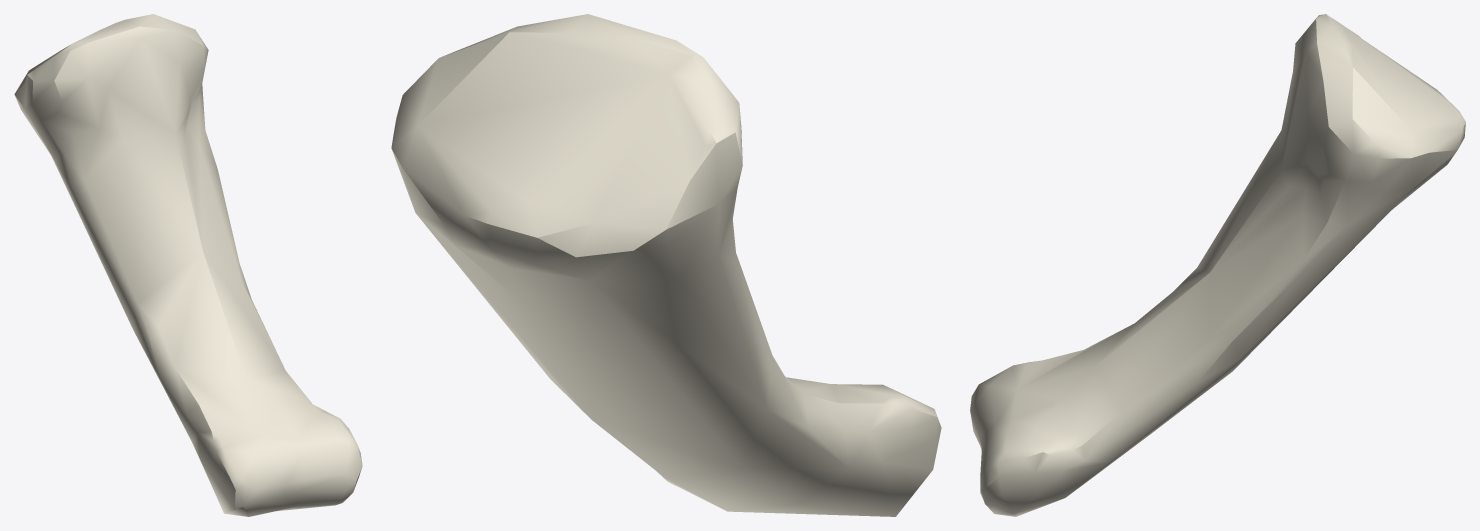
File: fma24457_fj6401.glb
3 renders of one model, left to right at view 1: azimuth 30°, elevation 25°; view 2: azimuth 150°, elevation 25°; view 3: azimuth 270°, elevation 25°, orthographic. The views are drawn at different scales.
Parts seen in each view (by area): view 1: FMA24457_FJ6401; view 2: FMA24457_FJ6401; view 3: FMA24457_FJ6401.
Boxes of the visible parts, left/top/right/bottom form: FMA24457_FJ6401: left=14, top=14, right=362, bottom=516; FMA24457_FJ6401: left=391, top=14, right=941, bottom=516; FMA24457_FJ6401: left=970, top=14, right=1465, bottom=516.
Size of the model in its own units: 0.0117 by 0.0237 by 0.0241.
